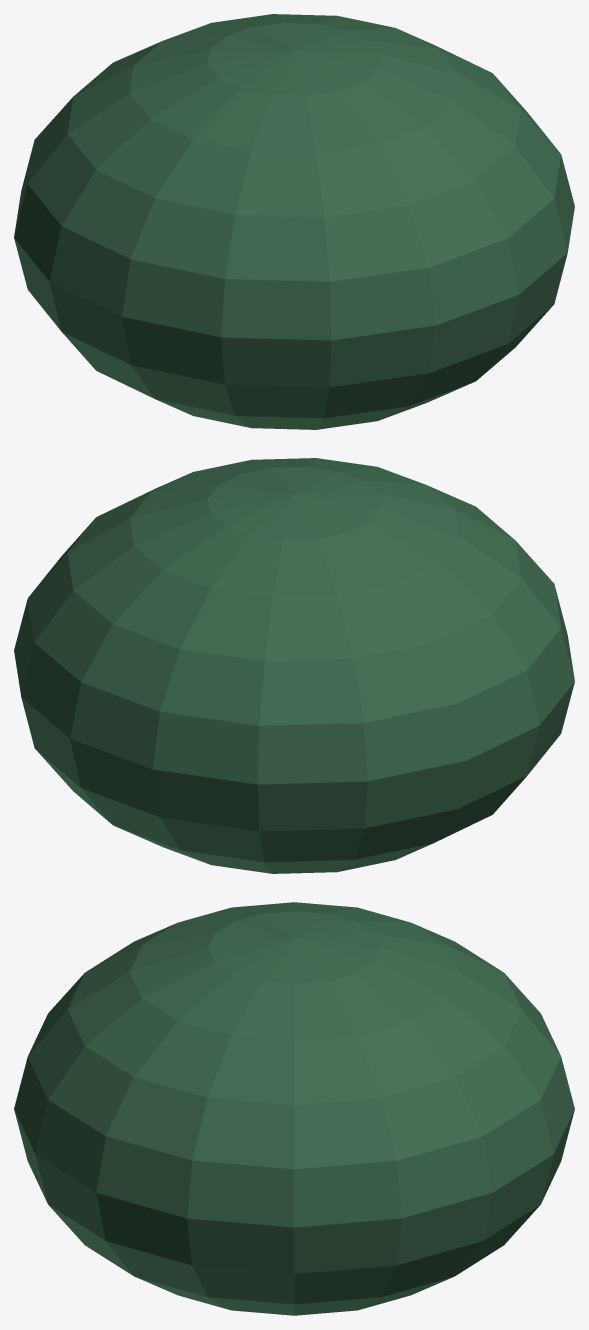
Rendered from env_bush_east.glb.
3 renders of one model, top to bottom at view 1: azimuth 30°, elevation 25°; view 2: azimuth 150°, elevation 25°; view 3: azimuth 270°, elevation 25°, orthographic.
Parts seen in each view (by area): view 1: ENV_Bush_East; view 2: ENV_Bush_East; view 3: ENV_Bush_East.
Boxes of the visible parts, x1=… form: ENV_Bush_East: x1=14, y1=14, x2=574, y2=429; ENV_Bush_East: x1=14, y1=458, x2=574, y2=873; ENV_Bush_East: x1=14, y1=902, x2=574, y2=1315.
Bounding box in the file's own units: 2.4 × 1.6 × 2.4.
